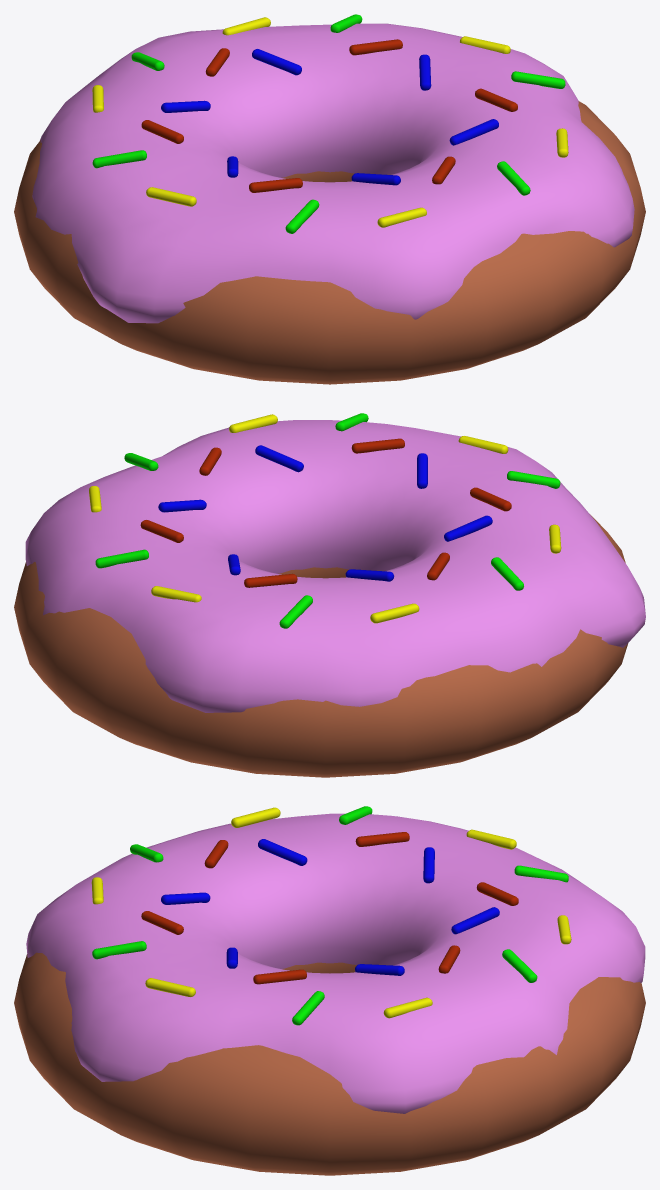
File: Strawberry_Donut.fbx
3 renders of one model, top to bottom at view 1: azimuth 30°, elevation 25°; view 2: azimuth 150°, elevation 25°; view 3: azimuth 270°, elevation 25°, orthographic.
Parts seen in each view (by area): view 1: Strawberry_Donut; view 2: Strawberry_Donut; view 3: Strawberry_Donut.
Part boxes in pixels (left/top/right/bottom): Strawberry_Donut: left=14, top=14, right=645, bottom=384; Strawberry_Donut: left=14, top=413, right=645, bottom=777; Strawberry_Donut: left=14, top=806, right=645, bottom=1175.
Size of the model in its own units: 2.01 by 0.5636 by 2.
